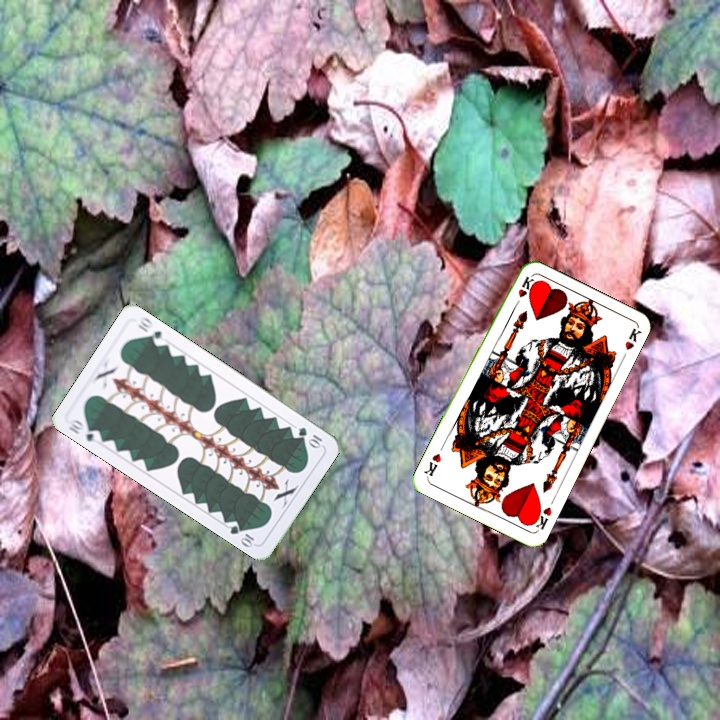G10: (63, 415, 104, 446), (294, 423, 325, 451)
HK: (509, 272, 535, 311), (527, 502, 555, 533)
